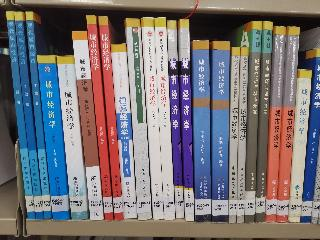book-spine: (4, 10, 36, 221), (71, 30, 104, 221), (14, 11, 44, 221), (86, 14, 115, 221), (36, 55, 72, 221), (123, 18, 152, 221), (24, 10, 52, 220), (56, 55, 89, 221), (98, 17, 124, 220), (275, 28, 301, 222), (263, 26, 287, 222), (252, 21, 275, 223), (111, 43, 137, 220), (154, 18, 176, 221), (285, 70, 314, 223), (142, 19, 164, 220), (179, 19, 198, 222), (299, 48, 320, 224), (192, 39, 211, 222), (245, 21, 262, 223), (167, 21, 183, 219), (212, 40, 229, 223), (227, 47, 241, 223), (236, 47, 250, 222)
